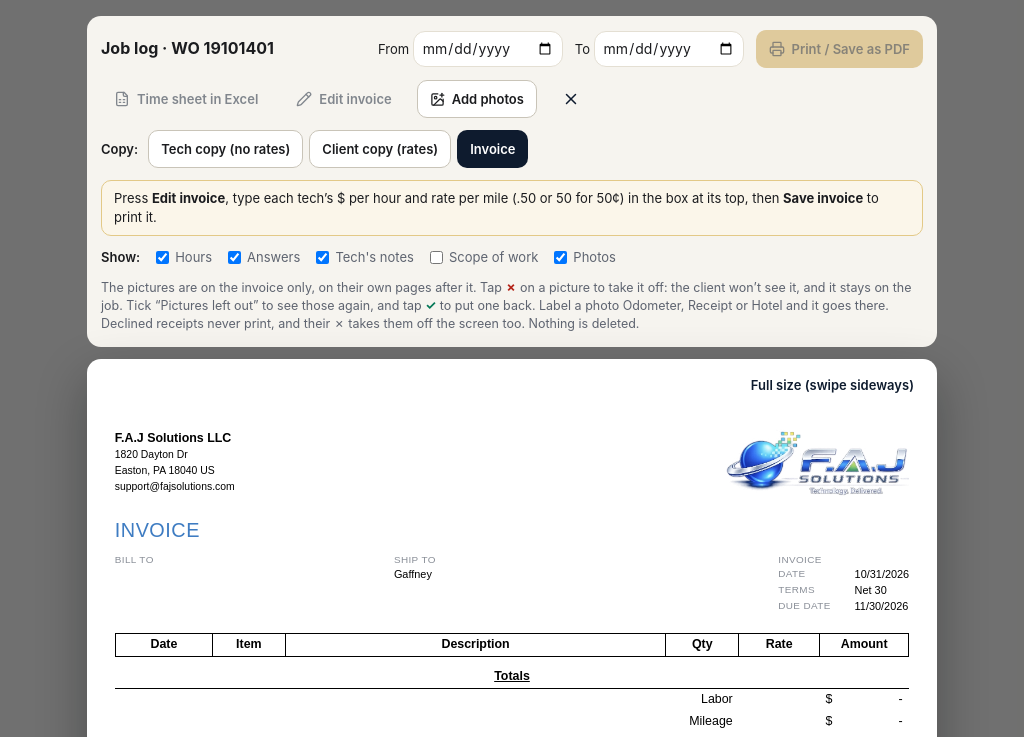
Test: Job log, each tech on their own › lists the lead tech's days and total first, then the helper's, then all techs
This screenshot has width=1024, height=737.
Click the button "Tech copy (no rates)": (226, 149) [148, 130, 303, 168]
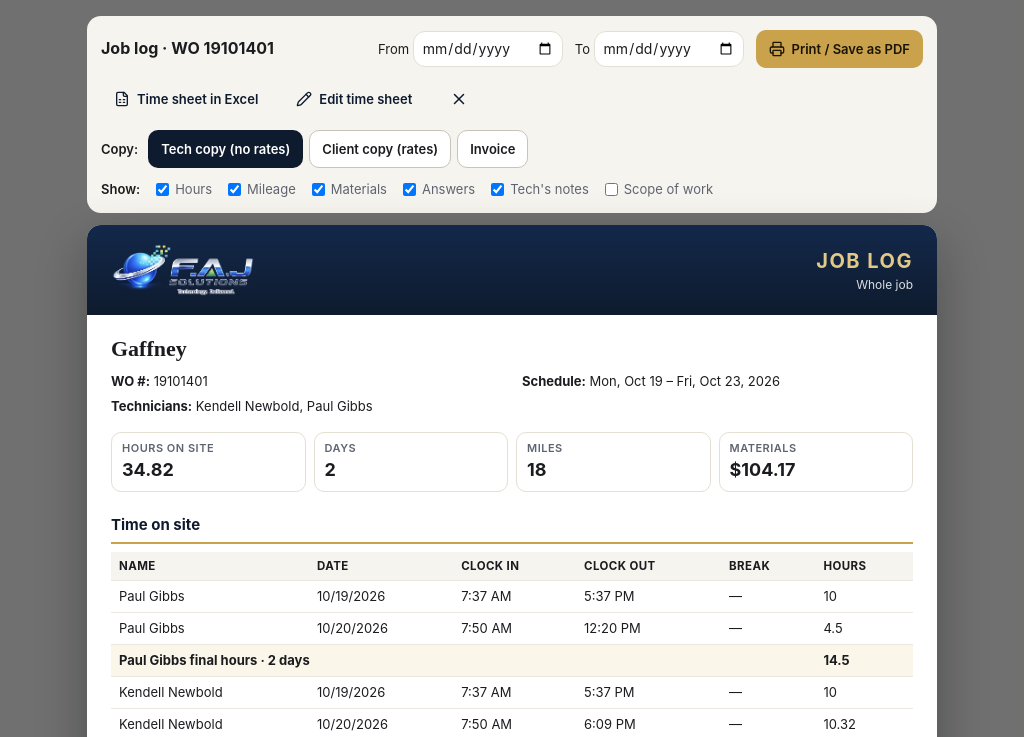
Expected: the text "34.82" is shown, [122, 459, 174, 480]
